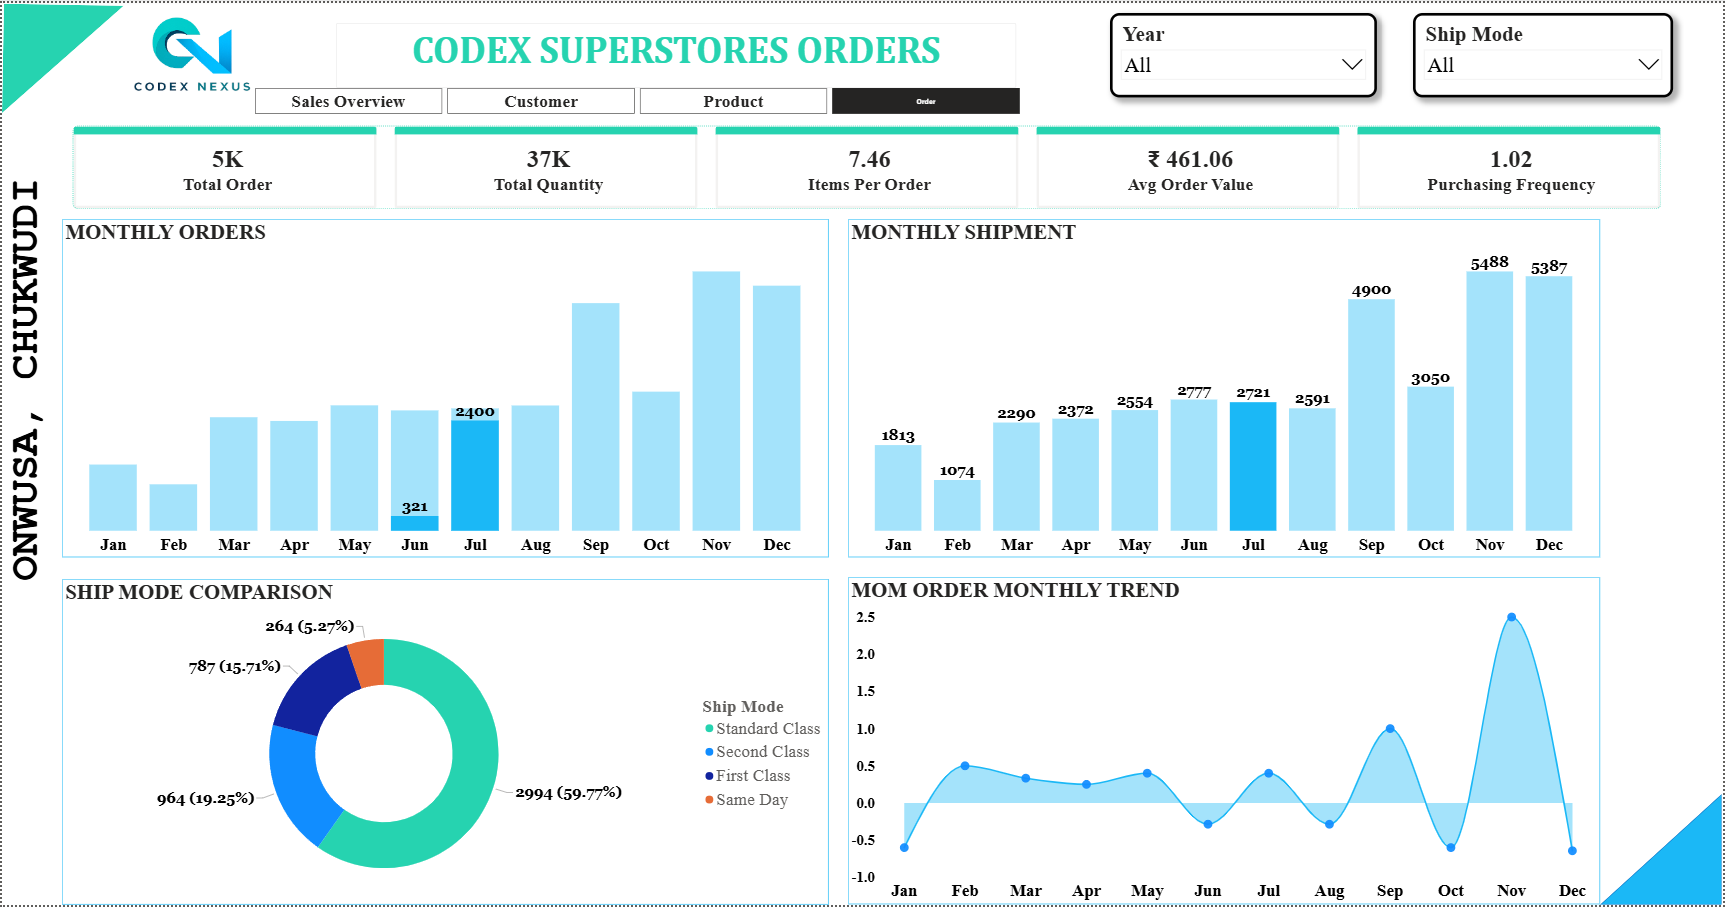

This screenshot's page, from the dashboard's own definition file:
{"tool":"powerbi","page":{"name":"Order","canvas":[3280,1720],"ordinal":3},"visuals":[{"type":"shape","box":[0,0,232.2,211.3],"z":0},{"type":"shape","box":[3047.8,1509,232.2,211.3],"z":1000},{"type":"shape","box":[0,199.4,87.2,1034.3],"z":2000},{"type":"textbox","box":[636.1,37.2,1297.1,124.1],"z":3000},{"type":"image","box":[232.2,0,250,199.4],"z":4000},{"type":"cardVisual","fields":{"Data":["My Measure.Total Order","My Measure.Total Quantity","My Measure.Items Per Order","My Measure.Avg Order Value","My Measure.Purchasing Frequency"]},"box":[114.6,213,3073,201],"z":5000},{"type":"clusteredColumnChart","title":"MONTHLY ORDERS","fields":{"Category":["Date Table.Short Month"],"Y":["My Measure.# Quantity Ordered"]},"box":[114.8,412.7,1461.6,645.4],"z":6000},{"type":"donutChart","title":"SHIP MODE COMPARISON","fields":{"Category":["dimOrder.Ship Mode"],"Y":["CountNonNull(dimOrder.Ship Mode)"]},"box":[114.8,1098.5,1461.6,620.6],"z":7000},{"type":"slicer","fields":{"Values":["Date Table.Year"]},"box":[2113.2,18.6,508.9,161.4],"z":8000},{"type":"clusteredColumnChart","title":"MONTHLY SHIPMENT","fields":{"Y":["My Measure.# Quantity Shipped"],"Category":["Shipping Date.Short Month"]},"box":[1613.6,412.7,1433.6,645.4],"z":9000},{"type":"slicer","fields":{"Values":["dimOrder.Ship Mode"]},"box":[2690.4,18.6,496.5,161.4],"z":10000},{"type":"lineChart","title":"MOM ORDER MONTHLY TREND","fields":{"Category":["Date Table.Short Month"],"Y":["My Measure.MOM Order %"]},"box":[1613.6,1095.4,1433.6,623.7],"z":11000},{"type":"pageNavigator","box":[482.4,162.1,1458.8,49.6],"z":12000}]}

Visuals, with their boxes in screenshot pixels (x1, y1, x2, y2), scaled from the page's 3280x1720 canvas onto the 1725x908 screenshot:
shape: rect(0, 0, 122, 112)
shape: rect(1603, 797, 1724, 907)
shape: rect(0, 105, 46, 651)
textbox: rect(335, 20, 1017, 85)
image: rect(122, 0, 254, 105)
cardVisual - My Measure.Total Order x My Measure.Total Quantity: rect(60, 112, 1676, 219)
"MONTHLY ORDERS" clusteredColumnChart: rect(60, 218, 829, 559)
"SHIP MODE COMPARISON" donutChart: rect(60, 580, 829, 907)
slicer - Date Table.Year: rect(1111, 10, 1379, 95)
"MONTHLY SHIPMENT" clusteredColumnChart: rect(849, 218, 1603, 559)
slicer - dimOrder.Ship Mode: rect(1415, 10, 1676, 95)
"MOM ORDER MONTHLY TREND" lineChart: rect(849, 578, 1603, 907)
pageNavigator: rect(254, 86, 1021, 112)
